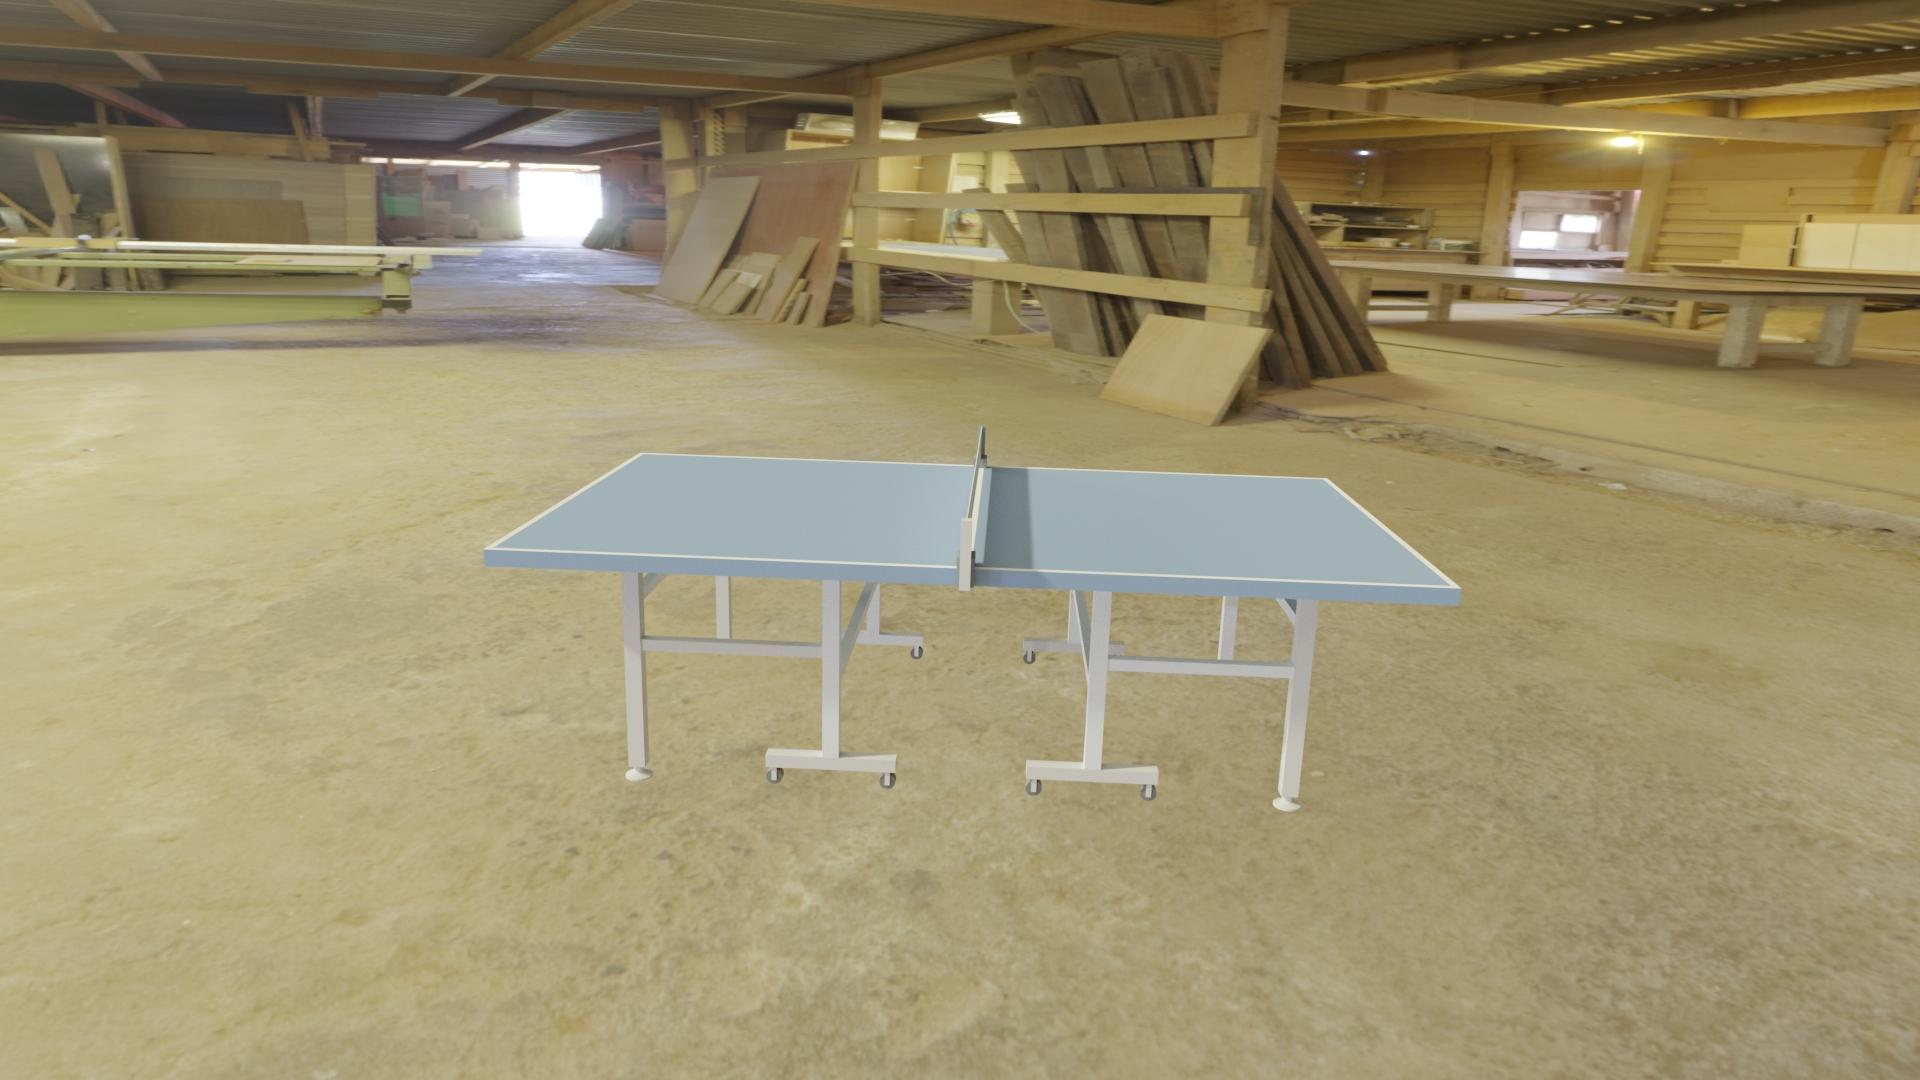table: (493, 454, 1452, 585)
